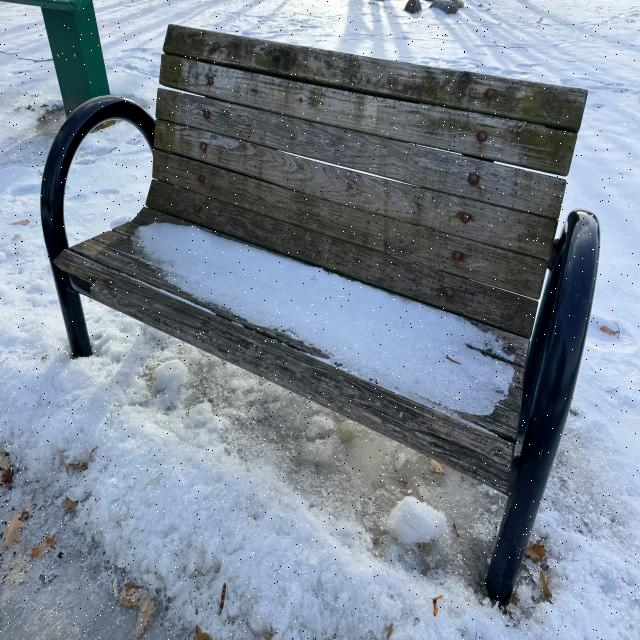Bench: (40, 75, 601, 596)
